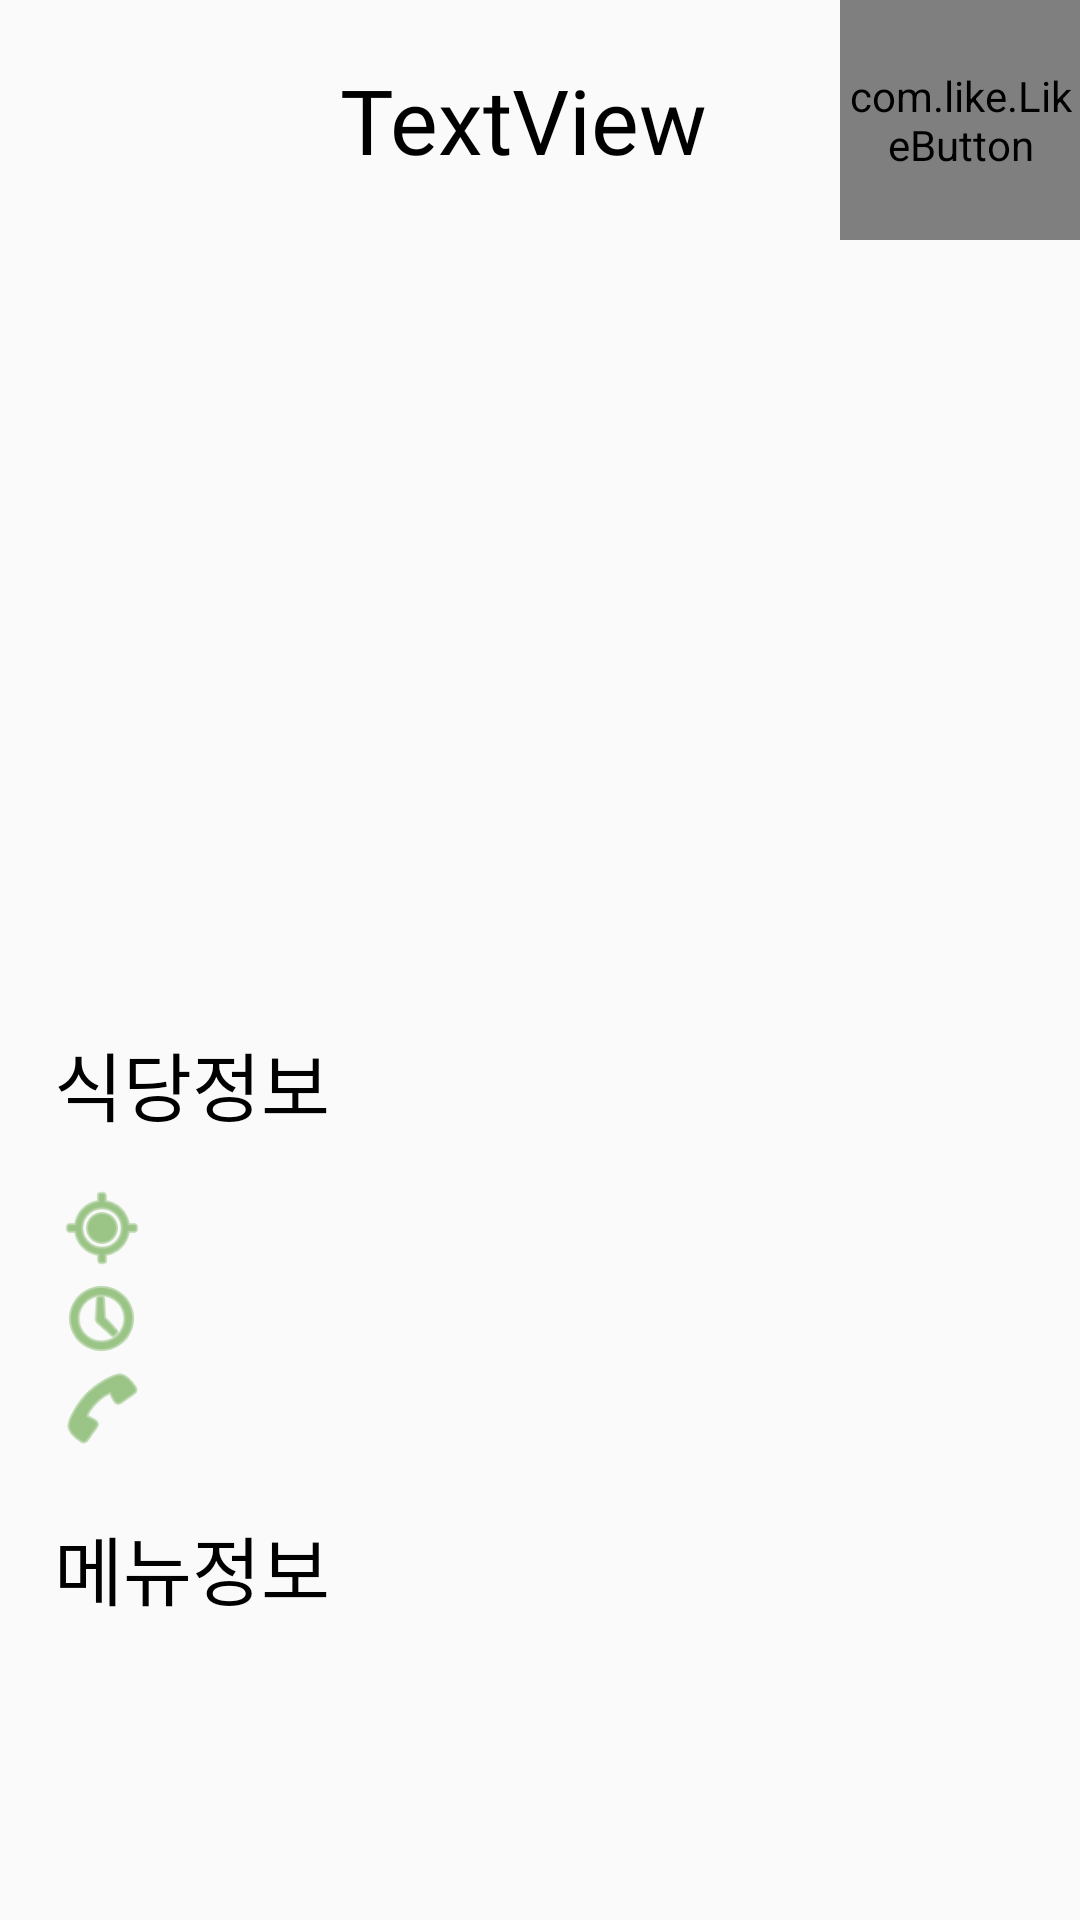

Where to tap for icons on this 1080×1920 app screen, as point (x, y):
call: point (102, 1408)
mylocation: point (102, 1228)
recent history: point (101, 1318)
